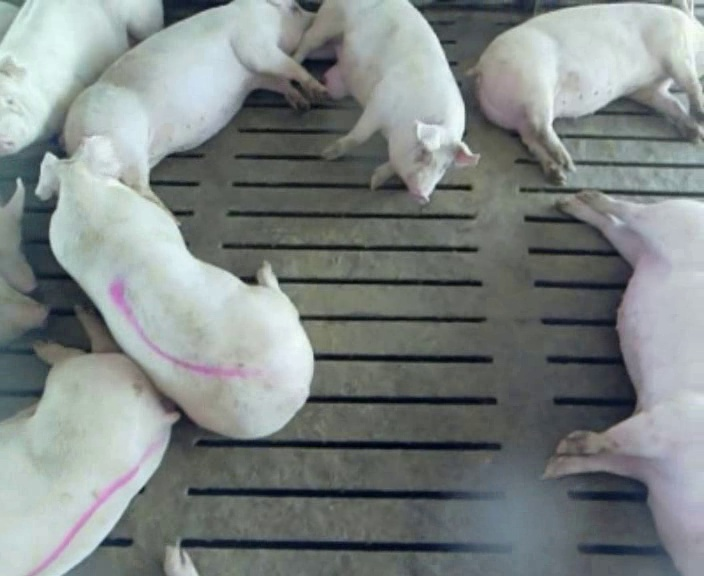pig: (35, 135, 313, 437), (544, 192, 703, 573), (64, 2, 323, 202), (0, 309, 178, 573), (473, 1, 703, 184), (294, 2, 478, 201), (0, 2, 162, 155), (0, 178, 36, 292)
